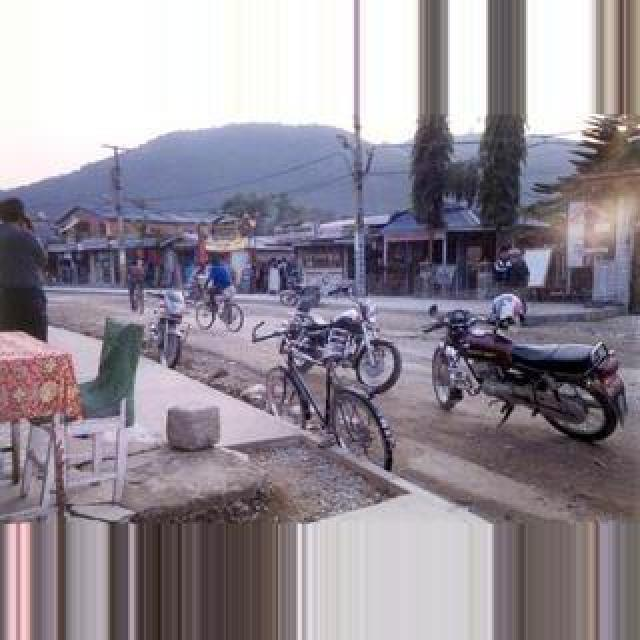Emergency Vehicles-Bike: (426, 302, 628, 440), (294, 282, 402, 400)
MC-Bike: (0, 198, 50, 340), (194, 248, 234, 320)
Person: (258, 312, 400, 470), (148, 296, 188, 370), (194, 286, 244, 332)
